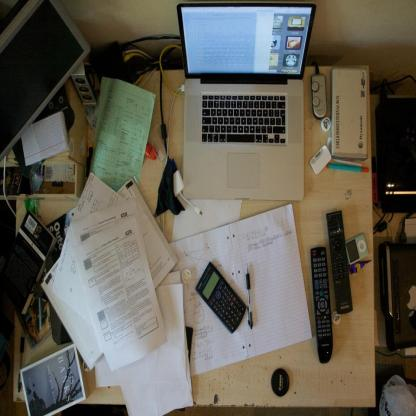board: (164, 5, 309, 217)
